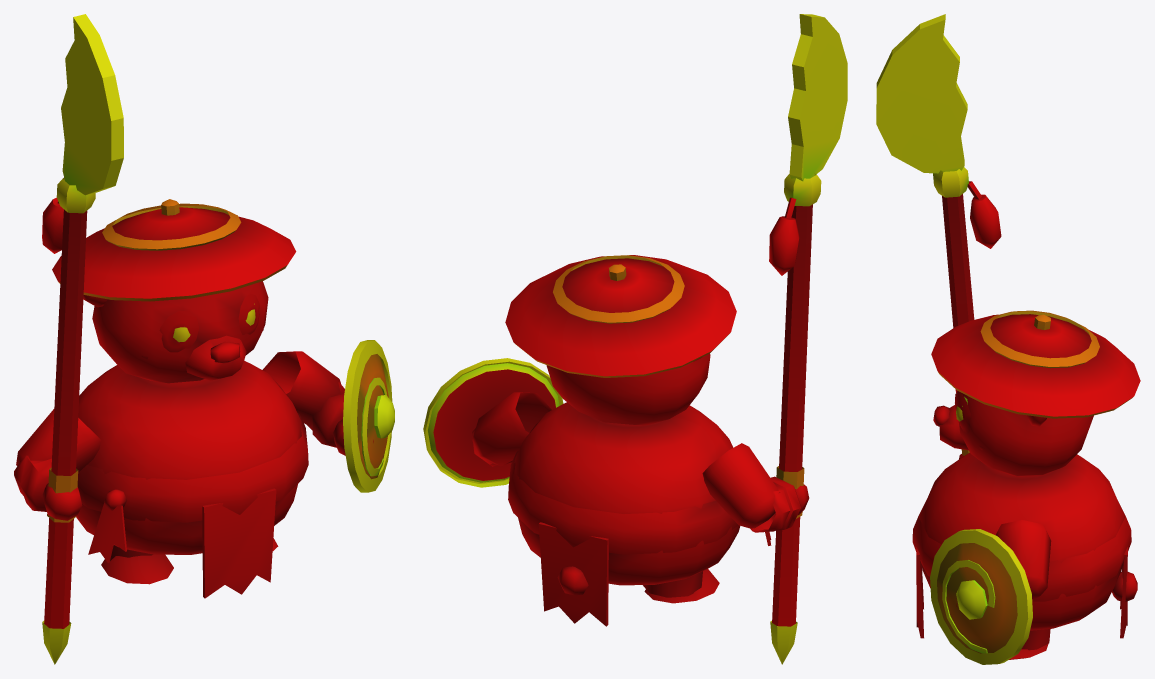
Rendered from BeastmanPandaWarrior.glb.
The picture shows the model from 3 angles, left to right: view 1: azimuth 30°, elevation 25°; view 2: azimuth 150°, elevation 25°; view 3: azimuth 270°, elevation 25°; orthographic projection. The views are drawn at different scales.
Parts seen in each view (by area): view 1: BeastmanPandaWarrior; view 2: BeastmanPandaWarrior; view 3: BeastmanPandaWarrior.
Part boxes in pixels (x1,y1,x2,y2): BeastmanPandaWarrior: (14,14,394,664); BeastmanPandaWarrior: (423,14,847,664); BeastmanPandaWarrior: (876,14,1140,664).
Size of the model in its own units: 0.9084 by 1.52 by 0.6015.
